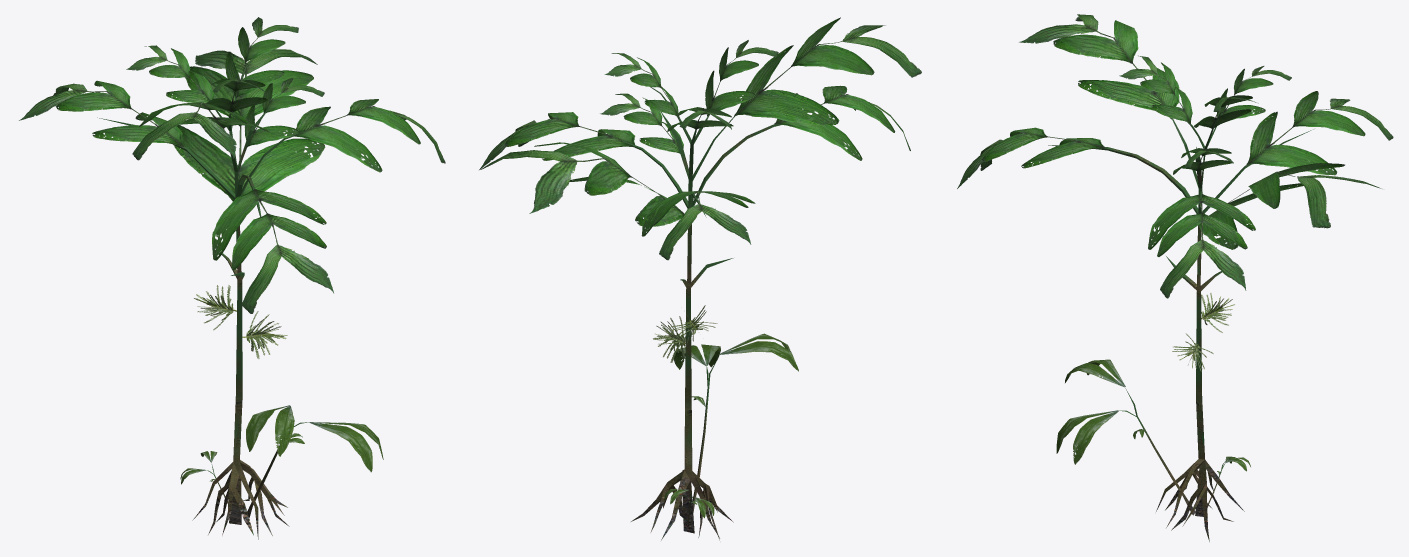
Rendered from Hypospathe_elegans.FBX.
3 views of the same model, side by side, from view 1: azimuth 30°, elevation 25°; view 2: azimuth 150°, elevation 25°; view 3: azimuth 270°, elevation 25° (orthographic). The views are drawn at different scales.
Visible parts, largest first — view 1: Hypospathe_elegans; view 2: Hypospathe_elegans; view 3: Hypospathe_elegans.
Part boxes in pixels (x1,y1,x2,y2): Hypospathe_elegans: (19,17,445,539); Hypospathe_elegans: (479,17,921,540); Hypospathe_elegans: (957,14,1393,541).
Bounding box in the file's own units: 1.47 × 1.9 × 1.67.
1 material, 1 textured.
